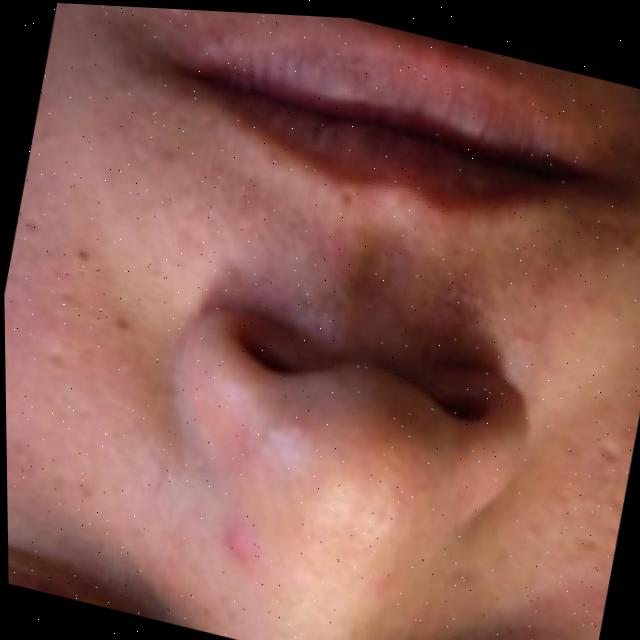Acne: (411, 240, 576, 398), (177, 467, 290, 572)
